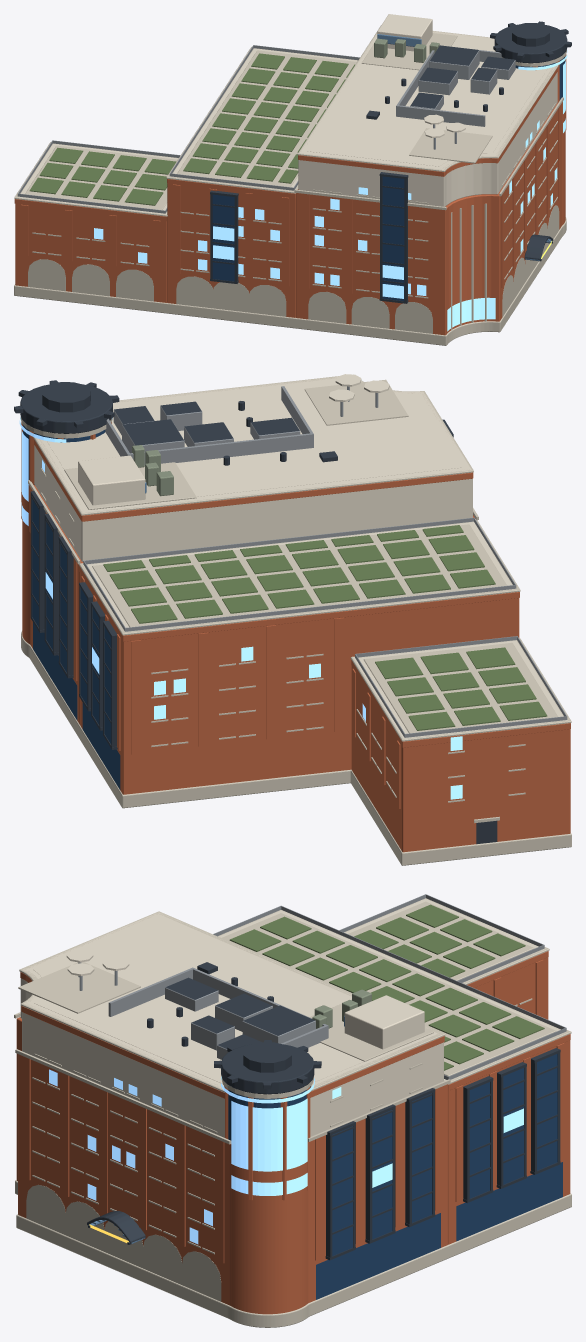
Rendered from 8-mission.glb.
3 renders of one model, top to bottom at view 1: azimuth 30°, elevation 25°; view 2: azimuth 150°, elevation 25°; view 3: azimuth 270°, elevation 25°, orthographic. The views are drawn at different scales.
Parts seen in each view (by area): view 1: plateau_a, roof_membrane, attic, plateau_c, plateau_b, terr_bed_b, plinth_a, terr_bed_c, st_bay0_glass, roof_deck, plinth_c, turret_crown (+41 smaller); view 2: plateau_b, plateau_c, attic, roof_membrane, terr_bed_b, terr_bed_c, terr_rail_b, plinth_b, plinth_c, parapet_b, parapet_a, spa_pavilion (+69 smaller); view 3: plateau_a, roof_membrane, attic, plinth_a, terr_bed_b, turret_glow_hi, emA_shopfront, plateau_b, emB_shopfront, roof_deck, spa_pavilion, coping_a (+74 smaller).
Boxes of the visible parts, x1,y1,x2,y2 form: plateau_a: (295, 101, 565, 335); roof_membrane: (307, 37, 547, 166); attic: (298, 31, 557, 206); plateau_c: (15, 144, 178, 302); plateau_b: (167, 48, 357, 317); terr_bed_b: (177, 50, 356, 187); plinth_a: (295, 217, 566, 345); terr_bed_c: (25, 145, 177, 210); st_bay0_glass: (382, 176, 404, 301); roof_deck: (409, 128, 492, 163); plinth_c: (14, 284, 166, 313); turret_crown: (494, 24, 567, 63); plateau_b: (80, 522, 519, 794); plateau_c: (351, 640, 570, 852); attic: (34, 377, 472, 561); roof_membrane: (47, 380, 461, 496); terr_bed_b: (92, 524, 506, 627); terr_bed_c: (363, 642, 557, 733); terr_rail_b: (83, 517, 516, 631); plinth_b: (79, 725, 350, 808); plinth_c: (350, 770, 571, 865); parapet_b: (79, 567, 519, 641); parapet_a: (34, 439, 473, 521); spa_pavilion: (78, 455, 145, 505); plateau_a: (16, 1017, 447, 1314); roof_membrane: (33, 917, 363, 1083); attic: (20, 912, 443, 1137); plinth_a: (15, 1180, 449, 1327); terr_bed_b: (222, 913, 556, 1076); turret_glow_hi: (231, 1098, 307, 1171); emA_shopfront: (316, 1213, 440, 1299); plateau_b: (218, 910, 570, 1244); emB_shopfront: (456, 1162, 562, 1241); roof_deck: (18, 962, 140, 1013); spa_pavilion: (344, 995, 424, 1049); coping_a: (19, 911, 445, 1092).
Size of the model in its own units: 74.14 by 28.66 by 56.55.
